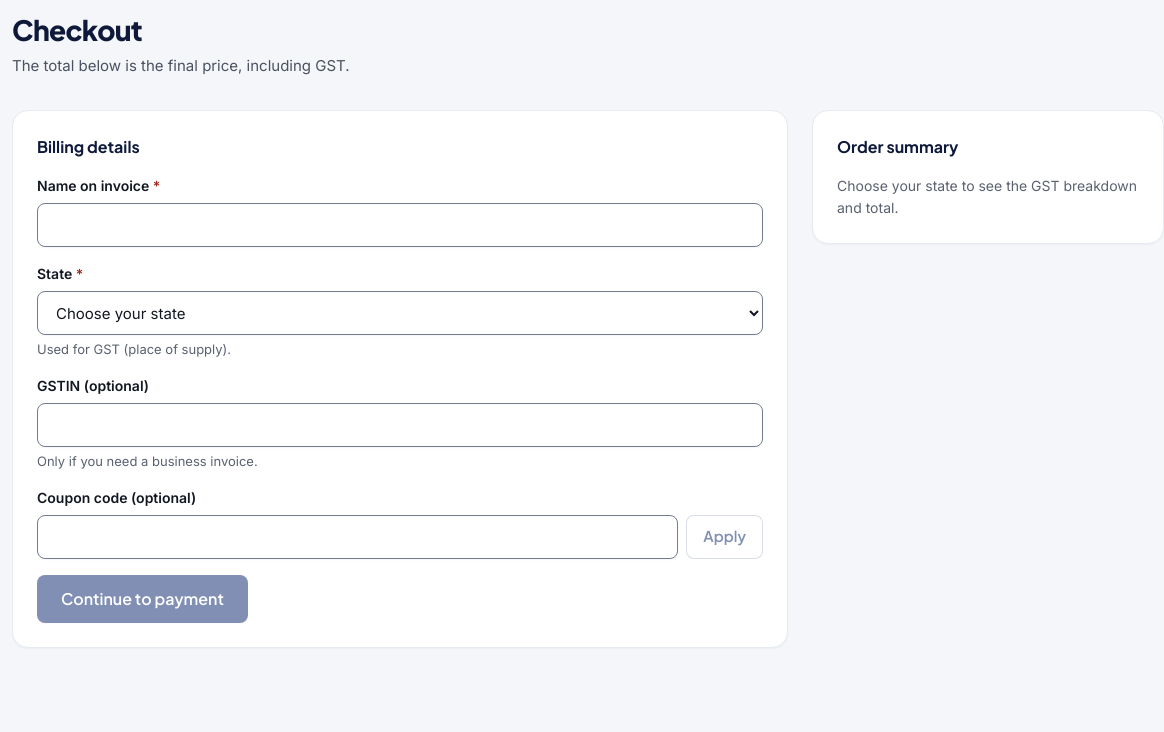
Recurring plans (INV-15) › routes a recurring price (quote answers not_one_time) to COM-09 without posting an order
Type "Ananya" into the field labelled "Name on invoice *" at (400, 225), box 37,203 -> 763,247
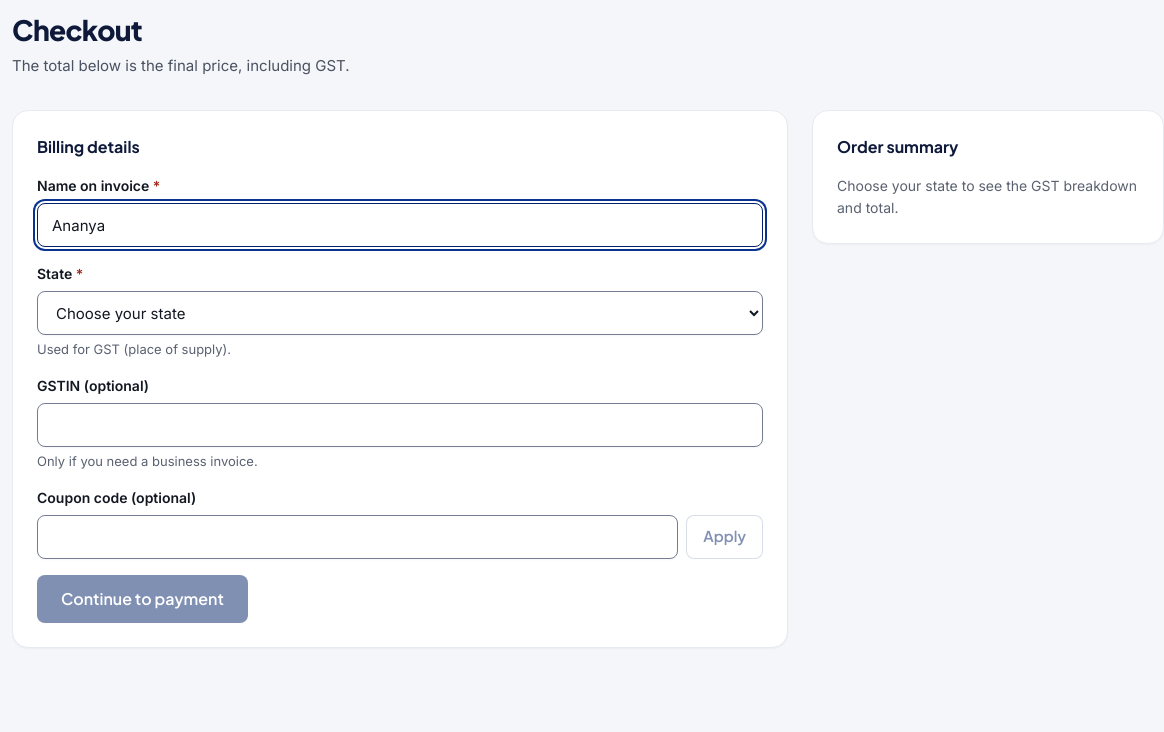
Select "Karnataka" in the dropdown labelled "State *" at (400, 313), box 37,291 -> 763,335
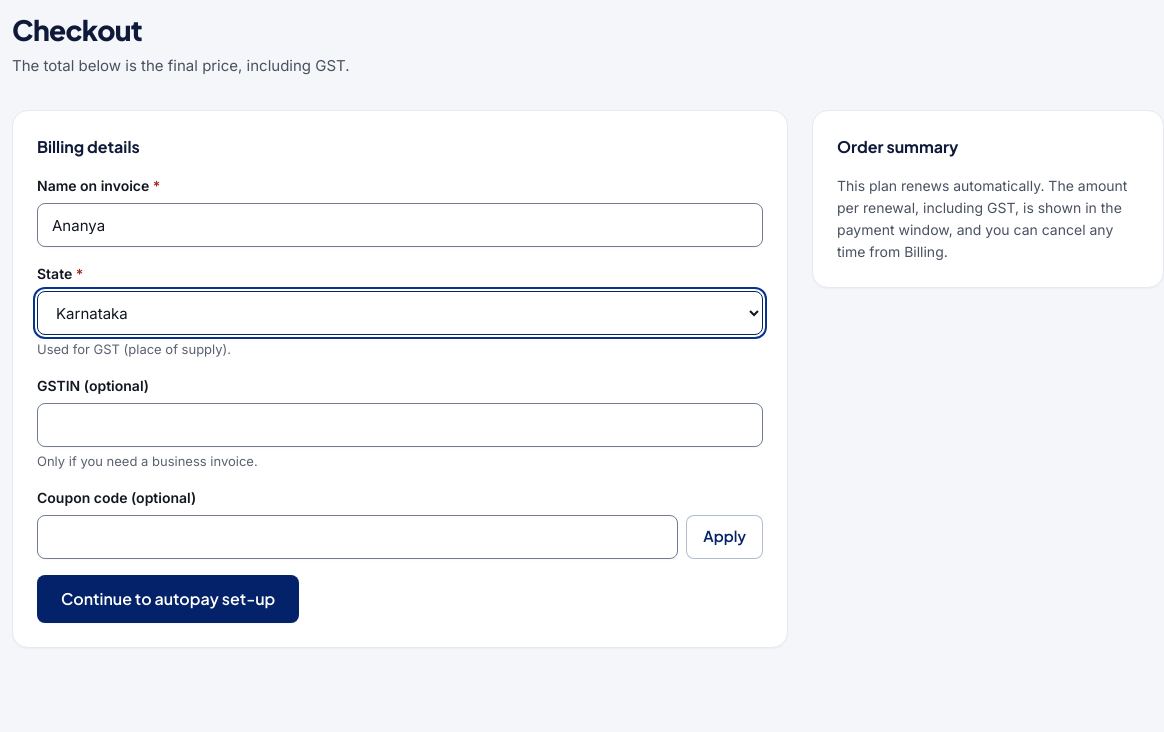
Result: the text "renews automatically. The amount per renewal" is shown at 837,177 -> 1128,260
Click the button "Continue to autopay set-up" at (168, 599), box 37,575 -> 299,623
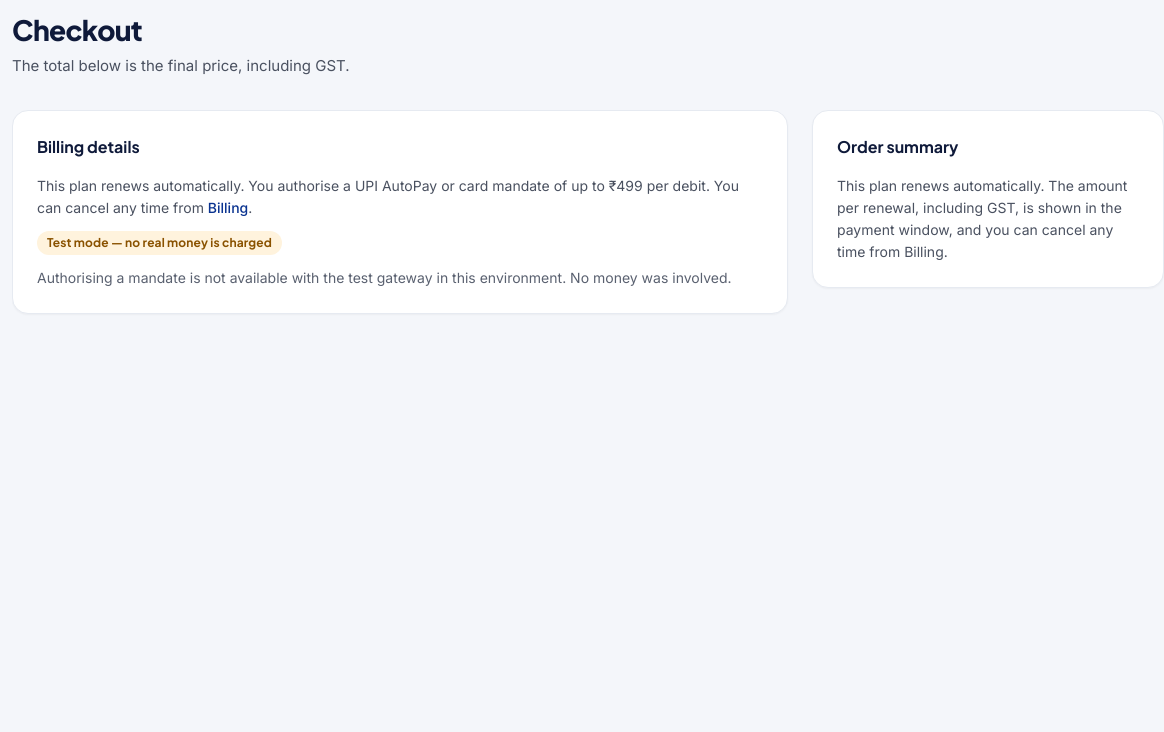
Result: the text "not available with the test gateway" is shown at 37,269 -> 732,286
